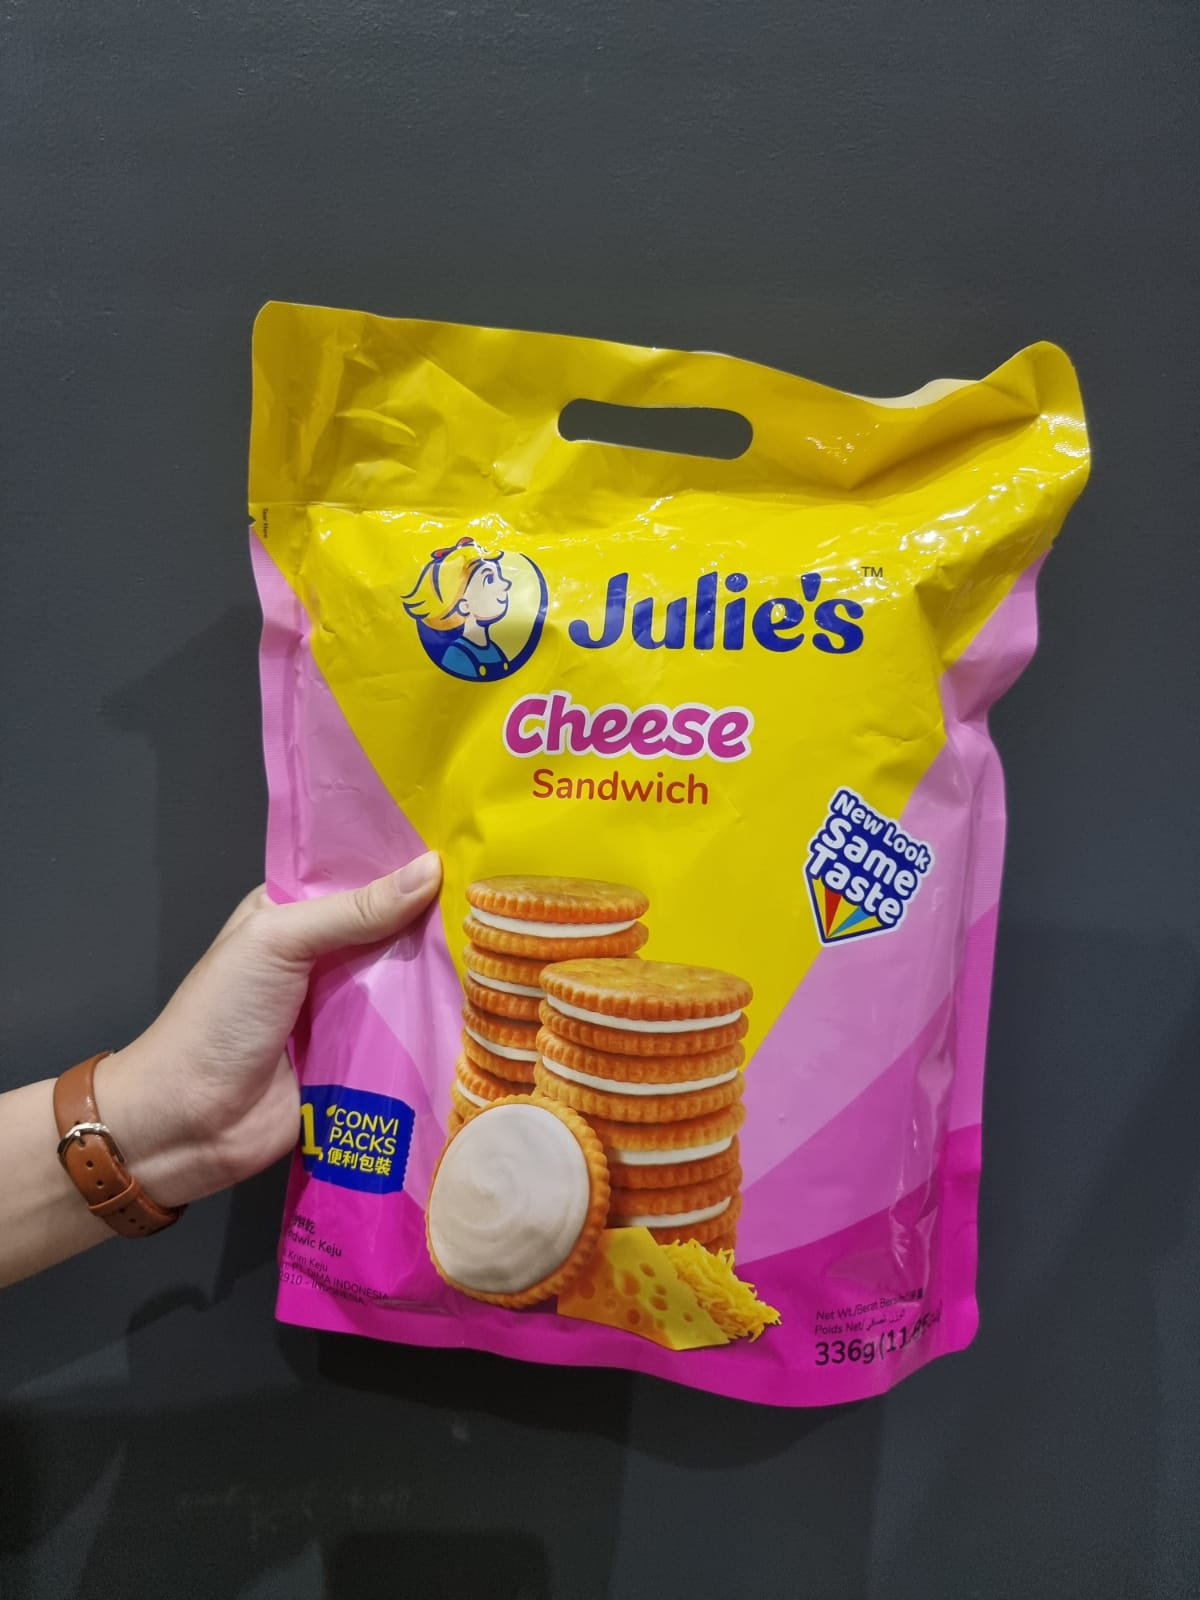Biscuits: (292, 477, 954, 1369)
